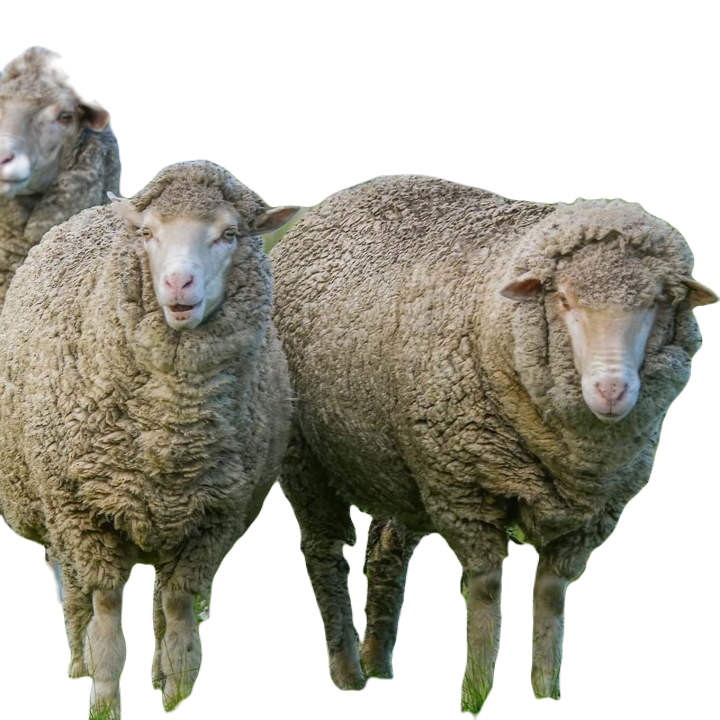Sheep: (304, 169, 719, 718), (0, 156, 301, 719)
